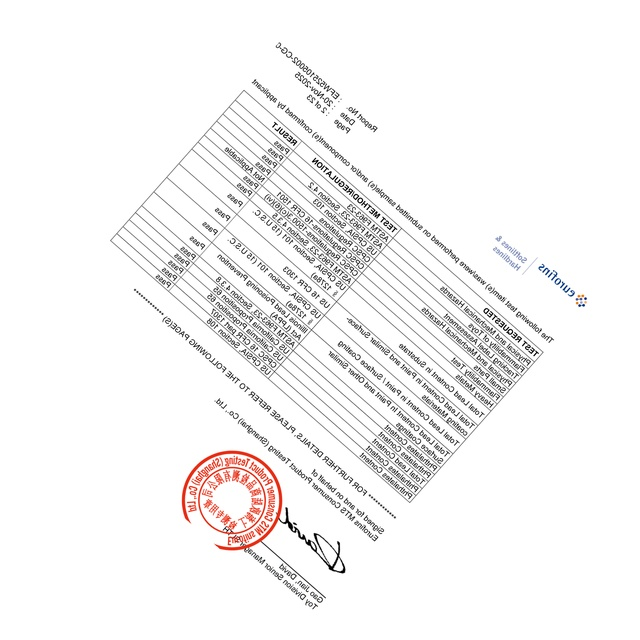eurofins: (536, 259, 592, 310)
